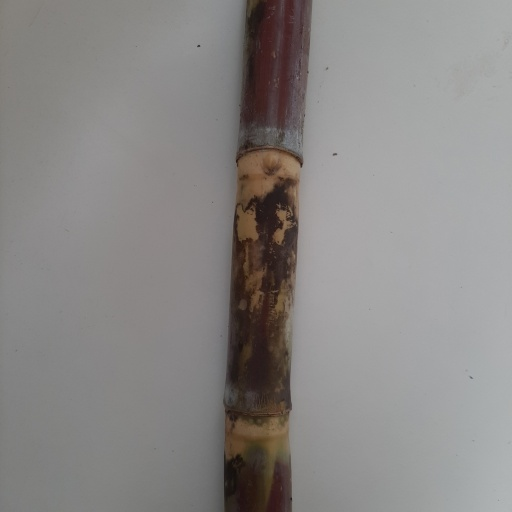Bud: (258, 149, 283, 178)
